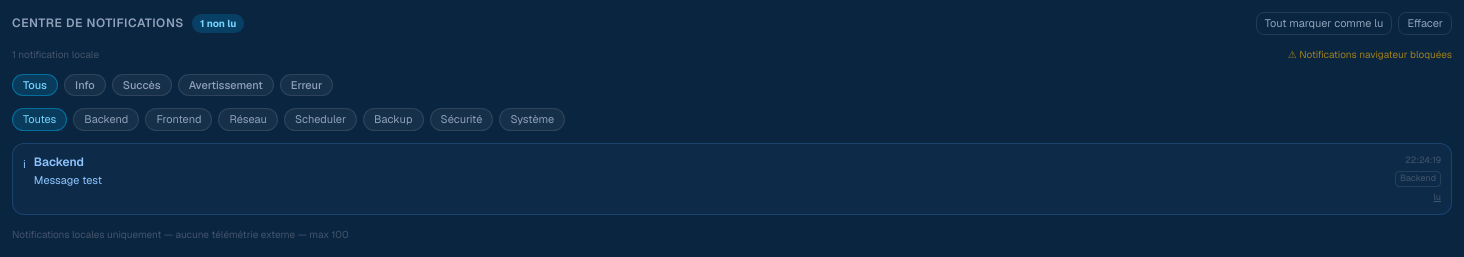
Scenario: NotificationsCenterPanel — effacement avec confirmation › demande confirmation avant d'effacer
The width and height of the screenshot is (1464, 257).
Click the button "Effacer".
click(1425, 23)  # box [1398,12,1452,34]
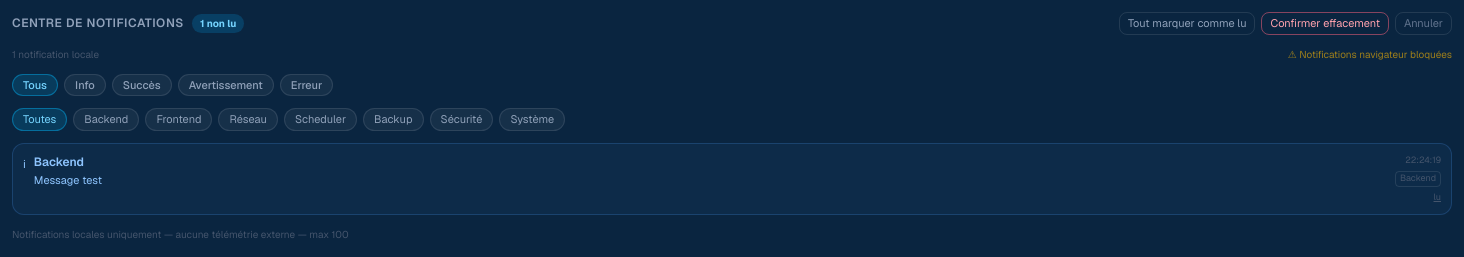
Expected: the button "Confirmer effacement" is shown, [1262,12,1389,34]
Expected: the button "Annuler" is shown, [1395,12,1452,34]
